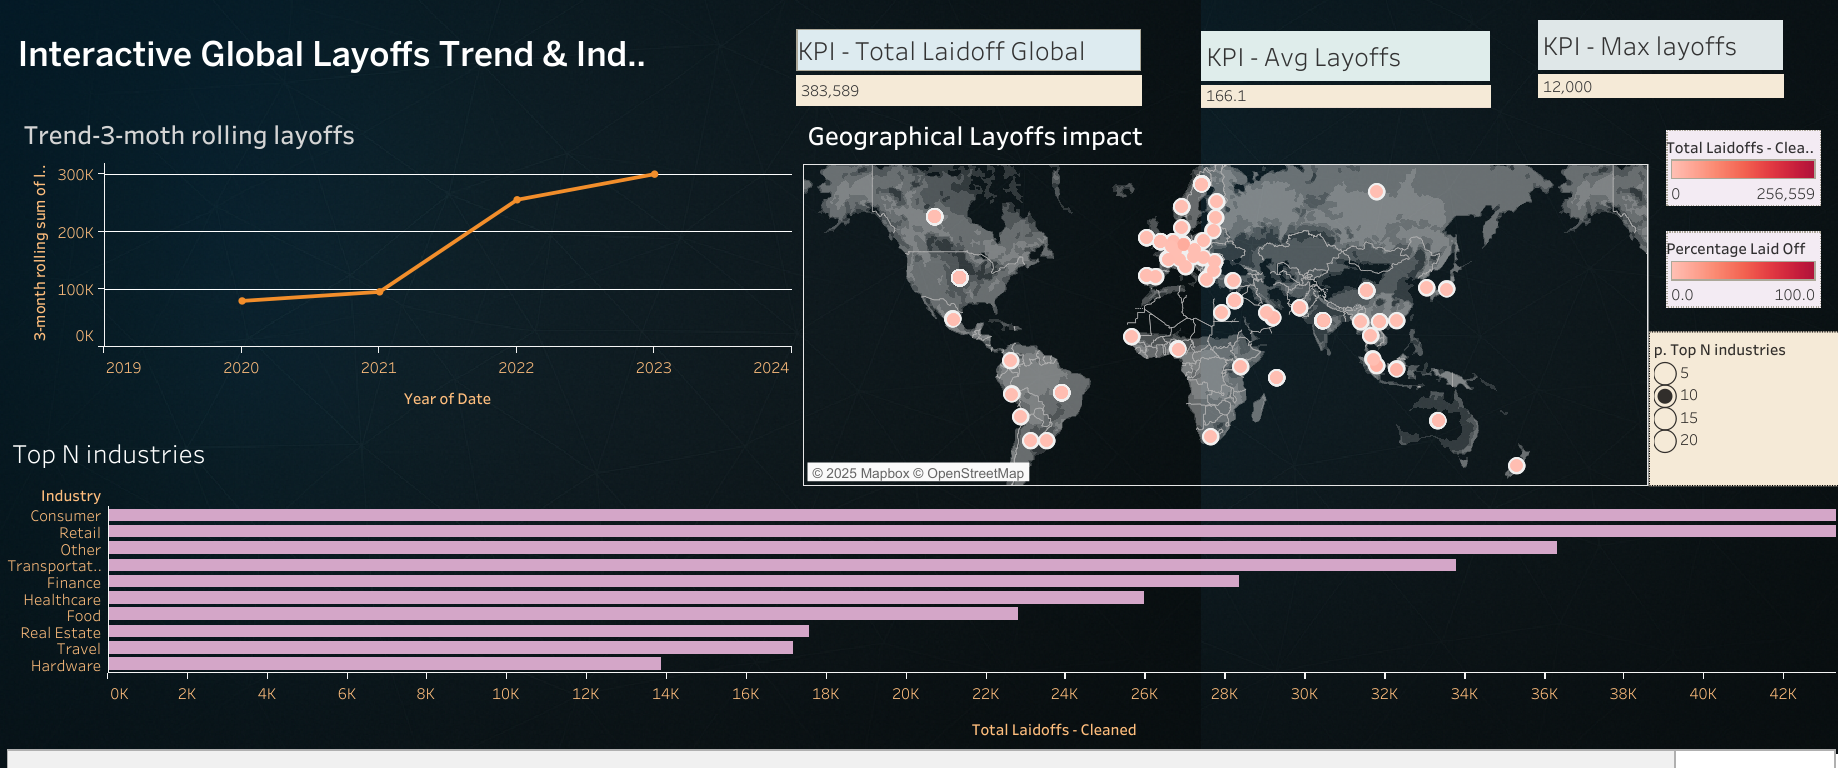

What the dashboard file says about the page in this screenshot:
{"tool":"tableau","page":{"name":"Dashboard 1","canvas":[1000,1000],"units":"permille","ordinal":0},"visuals":[{"type":"text","box":[7.2,17.5,346.4,106.1]},{"type":"worksheet","title":"KPI - Max layoffs","mark":"Automatic","box":[836.5,26.2,132.8,98.6]},{"type":"worksheet","title":"KPI - Total Laidoff Global","mark":"Automatic","box":[432.7,37.5,188.3,98.6]},{"type":"worksheet","title":"KPI - Avg Layoffs","mark":"Automatic","box":[653.6,40,156.9,98.6]},{"type":"worksheet","title":"Trend-3-moth rolling layoffs","mark":"Automatic","rows":["Calculation_1783425521025941505"],"cols":["date"],"box":[10.3,141.1,420,402]},{"type":"worksheet","title":"Geographical Layoffs impact","mark":"Circle","box":[436.3,143.6,460.5,488.1]},{"type":"legend","title":"Geographical Layoffs impact","param":"[federated.16dgrib1ebwroc1emn9yp1iybvp5].[sum:Calculation_1783425521025212416:qk","box":[905.9,169.8,84.5,109.9]},{"type":"legend","title":"Geographical Layoffs impact","param":"[federated.16dgrib1ebwroc1emn9yp1iybvp5].[sum:percentage_laid_off:qk]","box":[905.9,300.9,84.5,109.9]},{"type":"worksheet","title":"Top N industries","mark":"Automatic","rows":["industry"],"cols":["Calculation_1783425521025212416"],"box":[4.2,556.8,994,445.7]}]}

Visuals, with their boxes on the dashboard's canvas, which has no fixed pixel size, in thousandths of its width and height (x1, y1, x2, y2). These are canvas units, not pixel positions in the 1838x768 screenshot, which may show the page scaled, cropped or inside an application window:
text: BBox(7, 18, 354, 124)
"KPI - Max layoffs" worksheet: BBox(836, 26, 969, 125)
"KPI - Total Laidoff Global" worksheet: BBox(433, 38, 621, 136)
"KPI - Avg Layoffs" worksheet: BBox(654, 40, 810, 139)
"Trend-3-moth rolling layoffs" worksheet: BBox(10, 141, 430, 543)
"Geographical Layoffs impact" worksheet (Circle marks): BBox(436, 144, 897, 632)
"Geographical Layoffs impact" legend: BBox(906, 170, 990, 280)
"Geographical Layoffs impact" legend: BBox(906, 301, 990, 411)
"Top N industries" worksheet: BBox(4, 557, 998, 1002)
